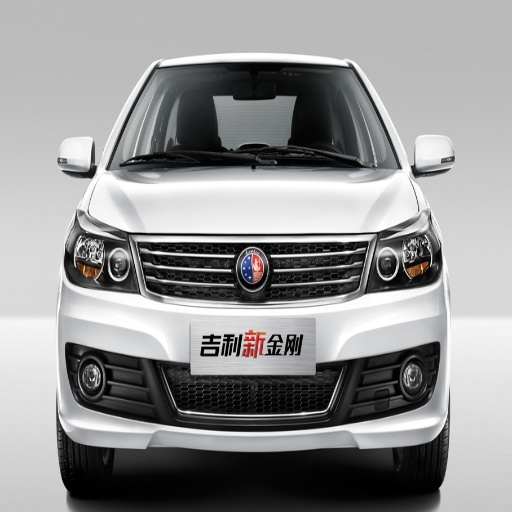front_bumper: (58, 233, 448, 449)
front_right_light: (67, 226, 133, 291)
hood: (85, 168, 420, 233)
left_mirror: (412, 134, 455, 176)
